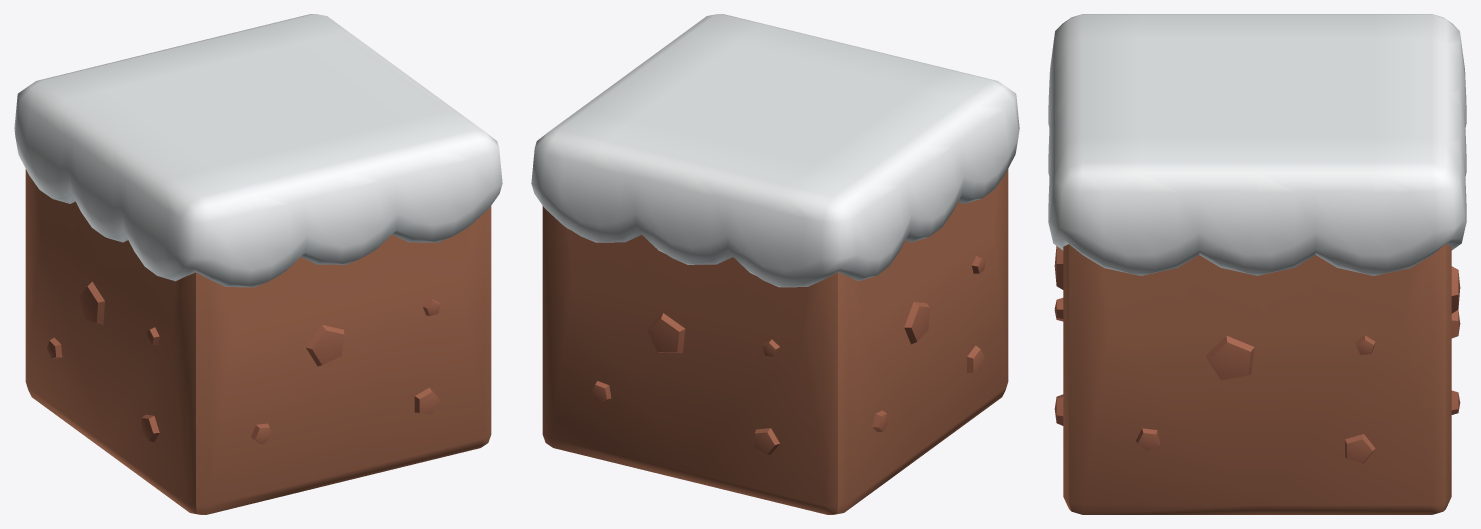
The model's file is dirt_with_snow.glb.
The picture shows the model from 3 angles, left to right: view 1: azimuth 30°, elevation 25°; view 2: azimuth 150°, elevation 25°; view 3: azimuth 270°, elevation 25°; orthographic projection. The views are drawn at different scales.
Parts seen in each view (by area): view 1: dirt_with_snow; view 2: dirt_with_snow; view 3: dirt_with_snow.
Part boxes in pixels (box(x1,y1,x2,y2)): dirt_with_snow: box(14, 14, 502, 514); dirt_with_snow: box(531, 14, 1019, 514); dirt_with_snow: box(1048, 14, 1466, 514).
Size of the model in its own units: 2.16 by 2.04 by 2.16.
1 material, 1 textured.
